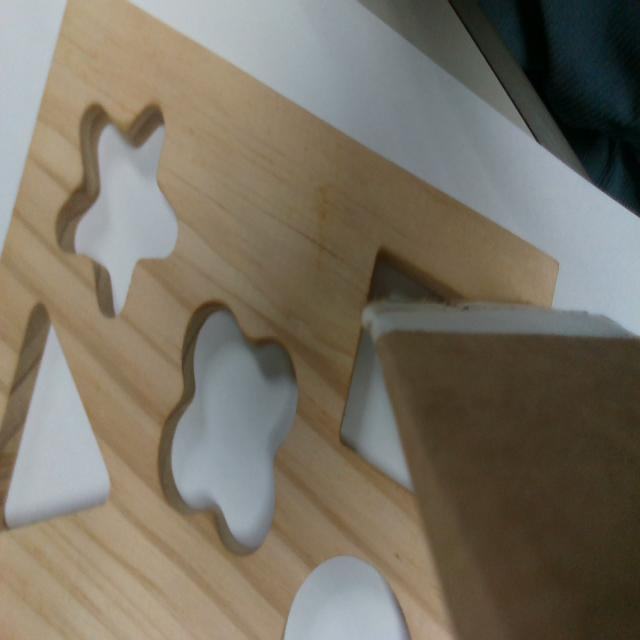circle: (285, 556, 411, 635)
flower: (160, 307, 297, 556)
square: (339, 245, 472, 495)
star: (54, 102, 179, 314)
triangle: (2, 299, 113, 533)
